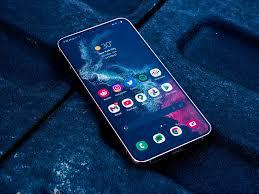Smartphone: (63, 17, 230, 169)
